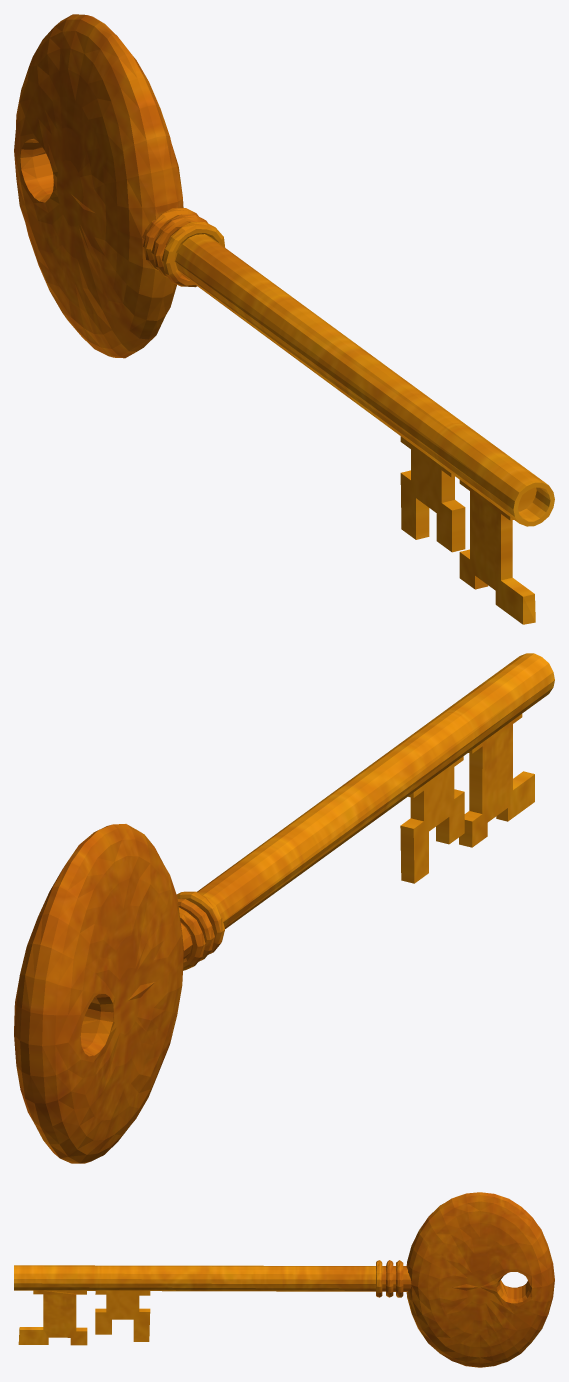
Rendered from key.FBX.
3 renders of one model, top to bottom at view 1: azimuth 30°, elevation 25°; view 2: azimuth 150°, elevation 25°; view 3: azimuth 270°, elevation 25°, orthographic. The views are drawn at different scales.
Parts seen in each view (by area): view 1: key; view 2: key; view 3: key.
Part boxes in pixels (x1,y1,x2,y2): key: (14, 14, 554, 624); key: (14, 653, 554, 1163); key: (14, 1192, 554, 1367).
Bounding box in the file's own units: 0.2663 × 3.67 × 1.31.
